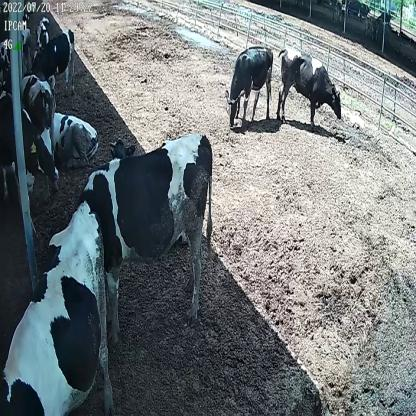cow: (77, 131, 216, 333), (2, 85, 60, 236), (276, 44, 342, 127), (225, 45, 274, 126), (27, 26, 78, 92), (36, 15, 50, 52)
